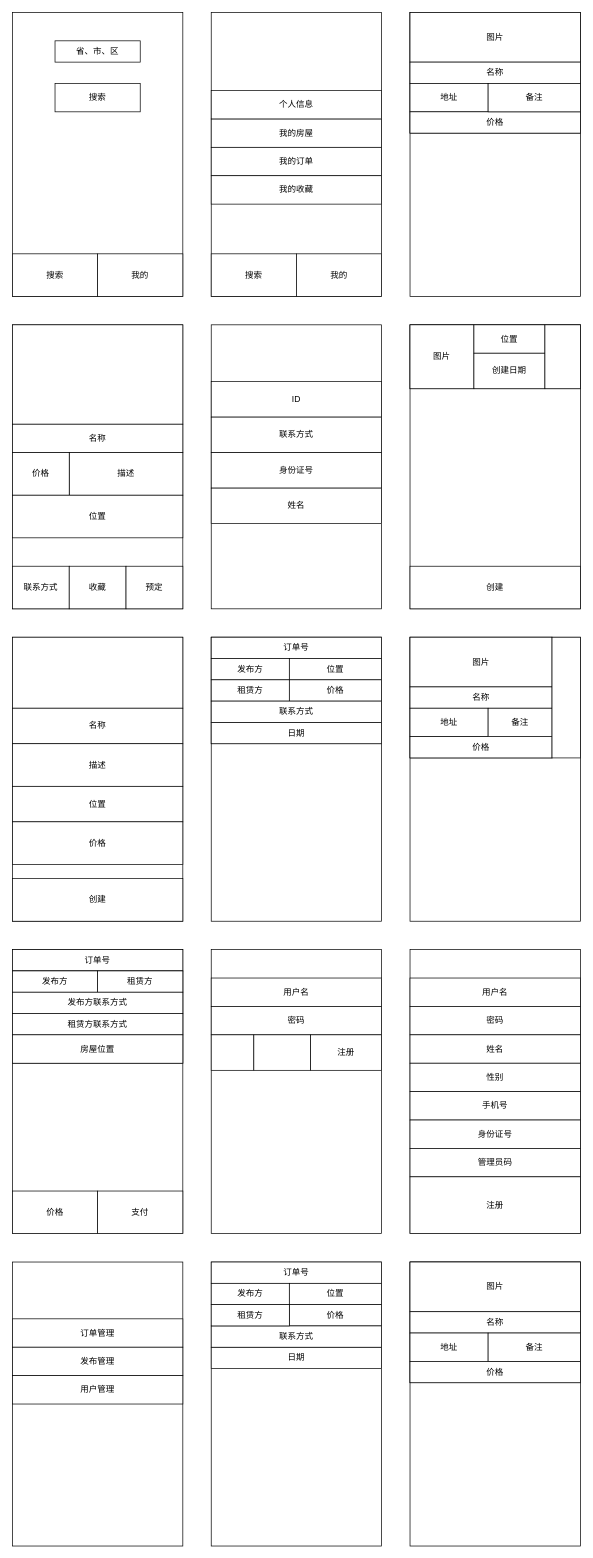
The diagram is 593 pixels wide and 1558 high, and some of its shapes have lost their labels. The shapes that lost their labels are listed below. From the top down, each one's centre as x and y in pixels, then its label:
At (97,374): "图组".
At (562,356): "发布".
At (97,672): "添加图片".
At (565,697): "取消收藏".
At (232,1052): "我是管理员".
At (282,1052): "登录".
